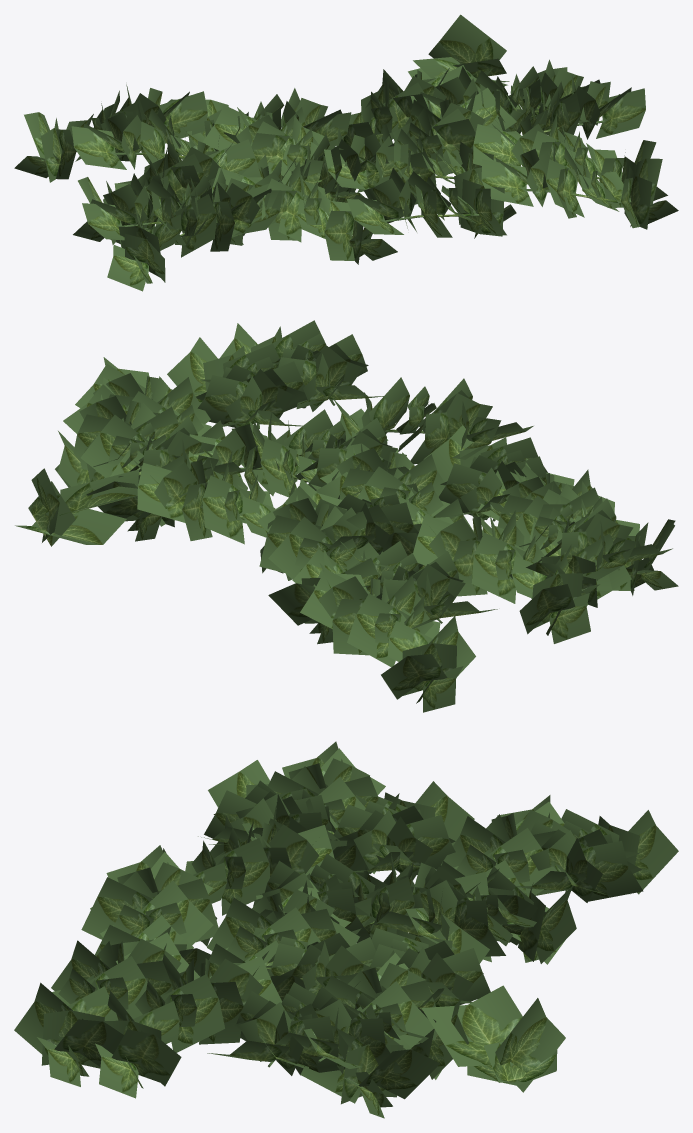
File: Horizontal_PIvy.FBX
3 views of the same model, one above another, from view 1: azimuth 30°, elevation 25°; view 2: azimuth 150°, elevation 25°; view 3: azimuth 270°, elevation 25° (orthographic). The views are drawn at different scales.
Visible parts, largest first — view 1: Object237; view 2: Object237; view 3: Object237.
Boxes of the visible parts, box(x1,y1,x2,y2) form: Object237: box(14, 14, 678, 291); Object237: box(15, 320, 678, 712); Object237: box(14, 741, 678, 1118).
Bounding box in the file's own units: 18.03 × 3.45 × 16.03.
1 material, 1 textured.
